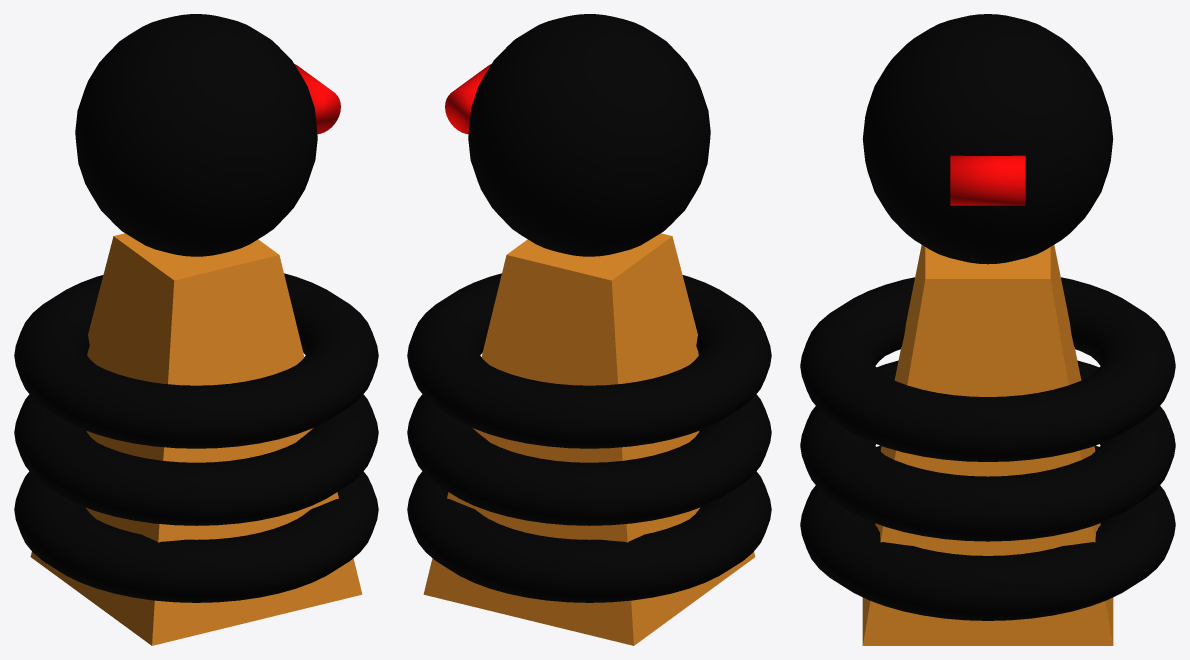
File: simple_drone.glb
3 renders of one model, left to right at view 1: azimuth 30°, elevation 25°; view 2: azimuth 150°, elevation 25°; view 3: azimuth 270°, elevation 25°, orthographic. The views are drawn at different scales.
Visible parts, largest first — view 1: Sphere, Cube, Torus.002, Torus.001, Torus, Cylinder; view 2: Sphere, Cube, Torus.002, Torus.001, Torus, Cylinder; view 3: Sphere, Cube, Torus.002, Torus.001, Torus, Cylinder.
Boxes of the visible parts, bbox=[...] form: Sphere: bbox=[75, 14, 317, 256]; Cube: bbox=[30, 233, 362, 645]; Torus.002: bbox=[14, 273, 378, 448]; Torus.001: bbox=[14, 394, 378, 525]; Torus: bbox=[14, 471, 378, 602]; Cylinder: bbox=[294, 64, 340, 134]; Sphere: bbox=[468, 14, 710, 256]; Cube: bbox=[423, 233, 755, 645]; Torus.002: bbox=[407, 273, 771, 448]; Torus.001: bbox=[407, 394, 771, 525]; Torus: bbox=[407, 471, 771, 602]; Cylinder: bbox=[445, 64, 491, 134]; Sphere: bbox=[862, 14, 1113, 264]; Cube: bbox=[862, 245, 1113, 645]; Torus.002: bbox=[800, 277, 1175, 461]; Torus.001: bbox=[800, 360, 1175, 541]; Torus: bbox=[800, 445, 1175, 620]; Cylinder: bbox=[950, 155, 1025, 205].
Size of the model in its own units: 3 by 5 by 3.
